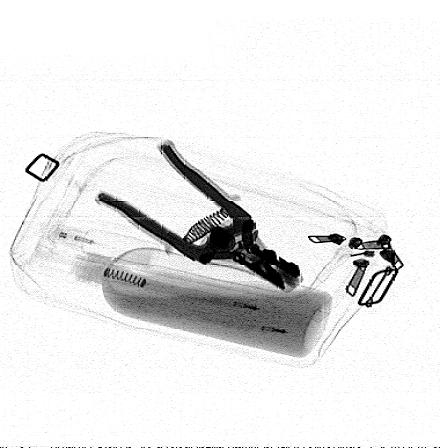Pliers: (95, 139, 301, 293)
